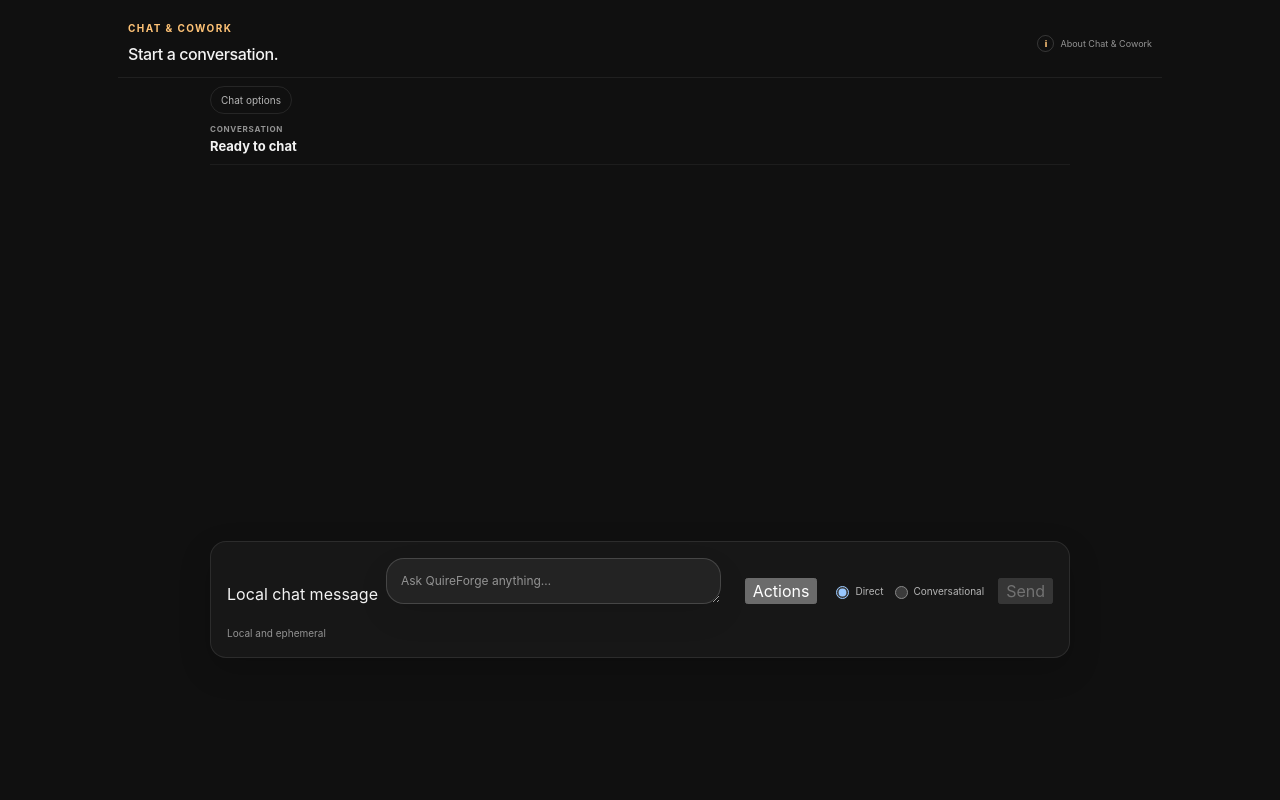
Test case: LocalChatWorkspace › dismisses only the Actions picker with Escape or an outside pointer
This screenshot has width=1280, height=800.
Click the button "Actions": (781, 591) x1=745 y1=578 x2=818 y2=604
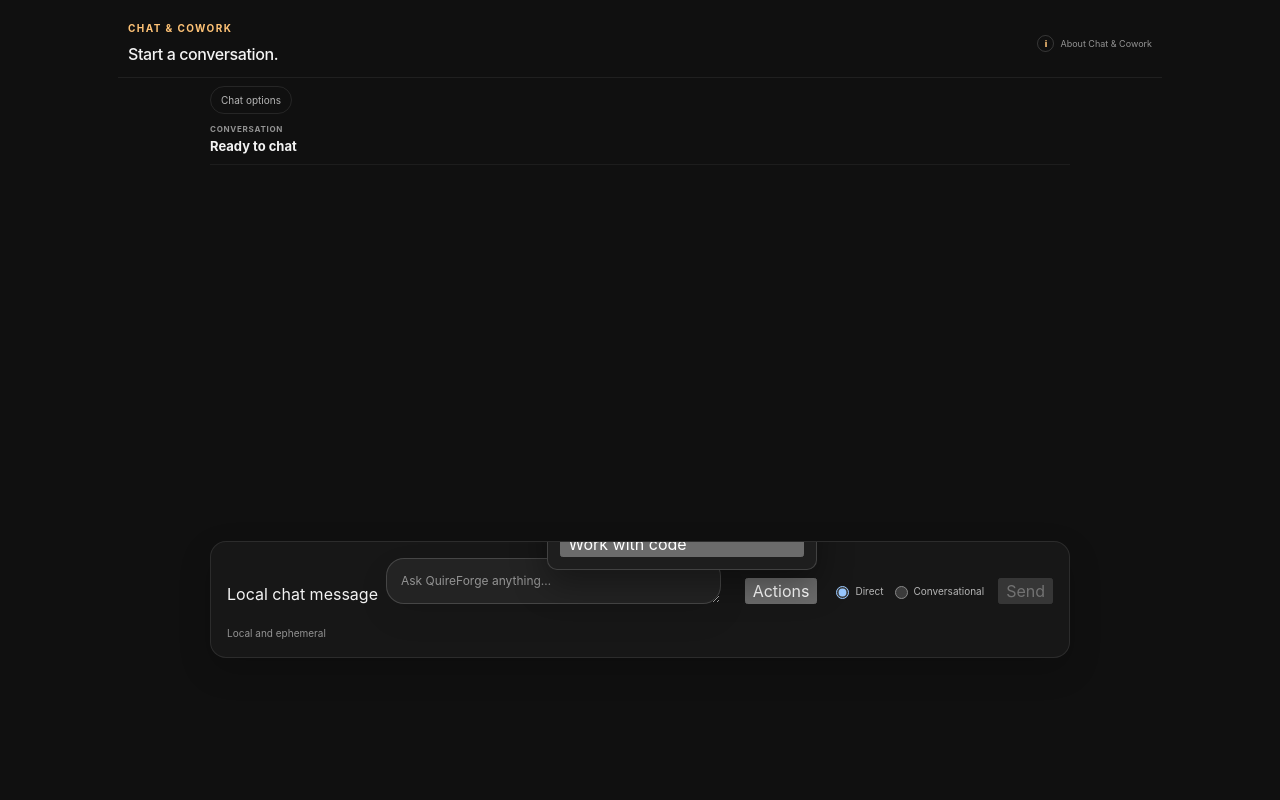
Press Escape
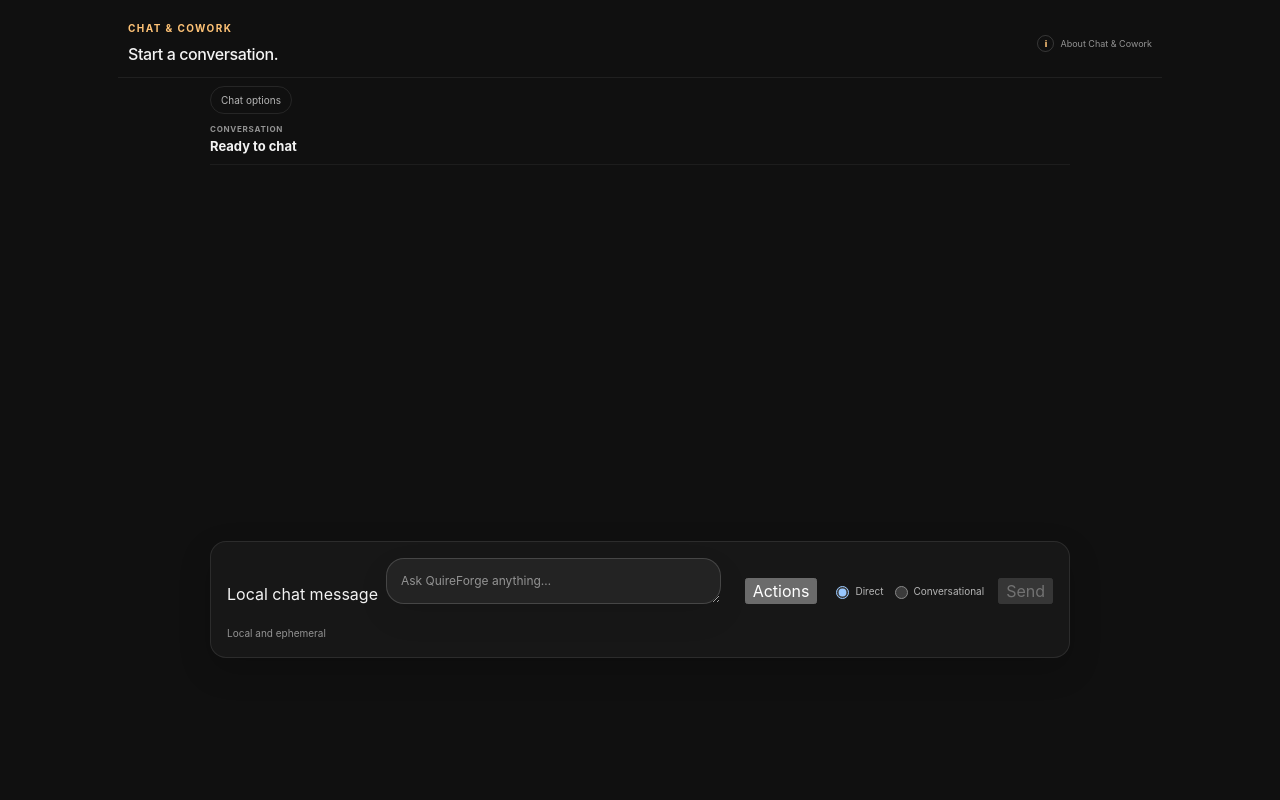
expect the menu is gone: met
Click the button "Actions": (781, 591) x1=745 y1=578 x2=818 y2=604
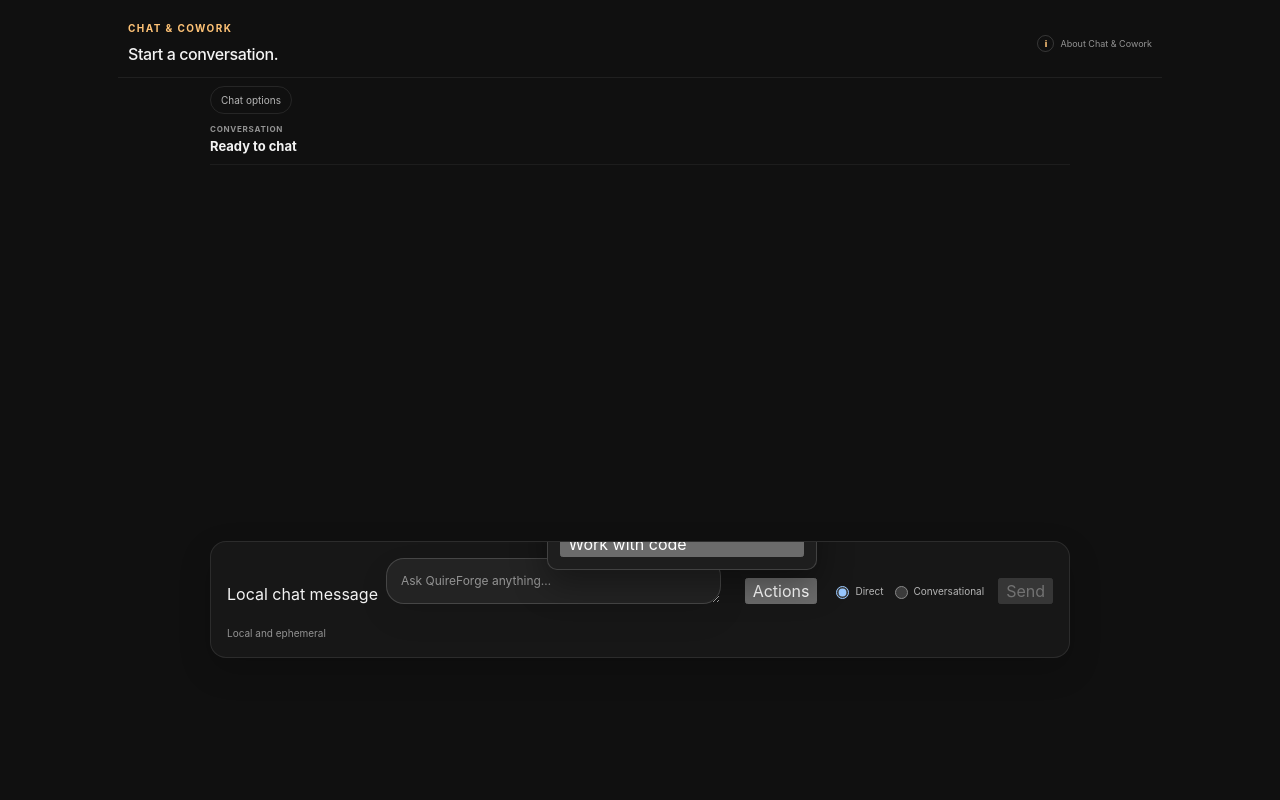
Press the mouse on the element that starts with "Chat & Cowork": (640, 400) x1=0 y1=0 x2=1279 y2=799
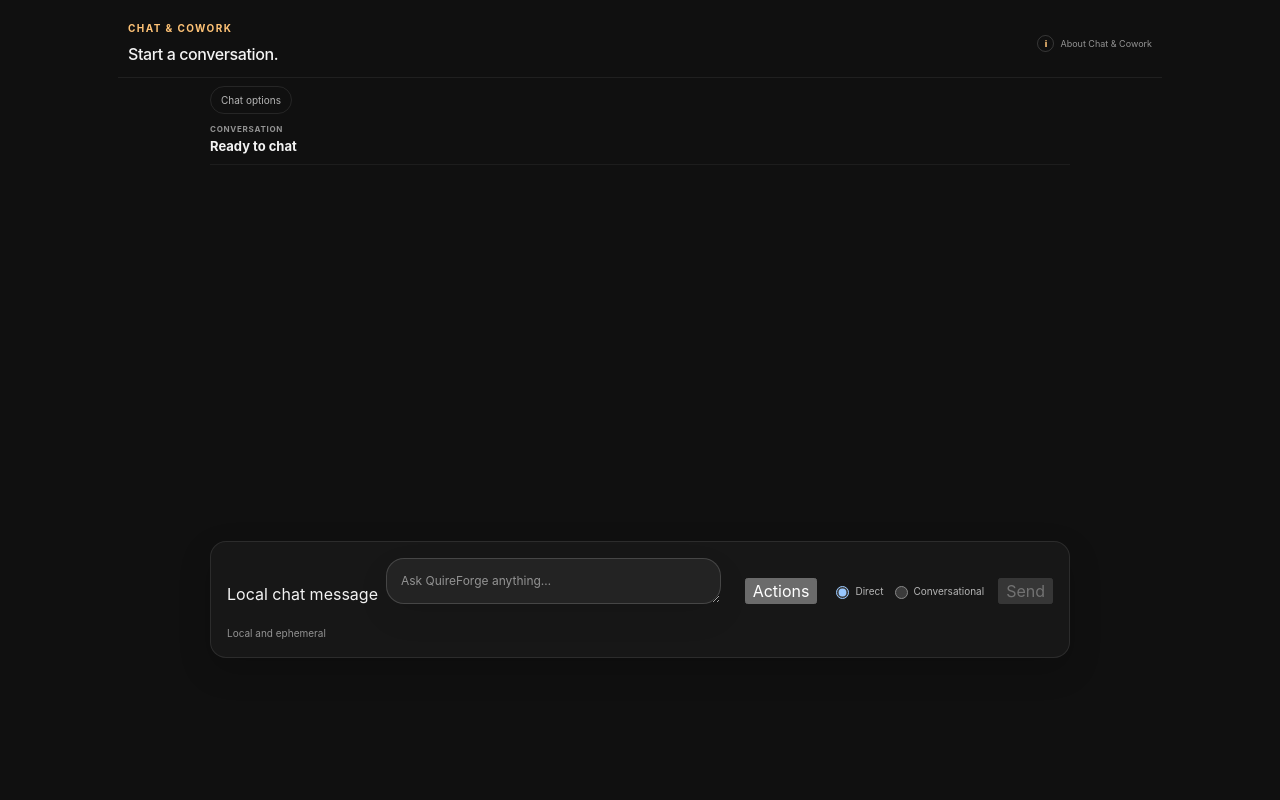
expect the menu is gone: met
